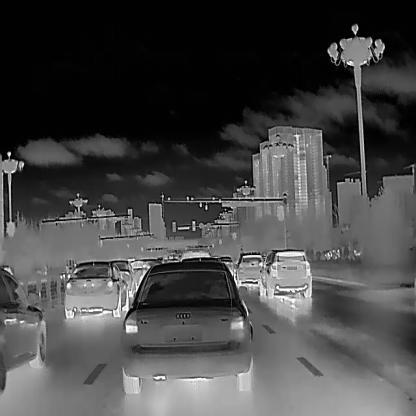car: (122, 258, 254, 394), (0, 267, 46, 391), (61, 257, 129, 317), (258, 247, 311, 297), (106, 259, 135, 308), (131, 259, 163, 294), (233, 252, 264, 287)
